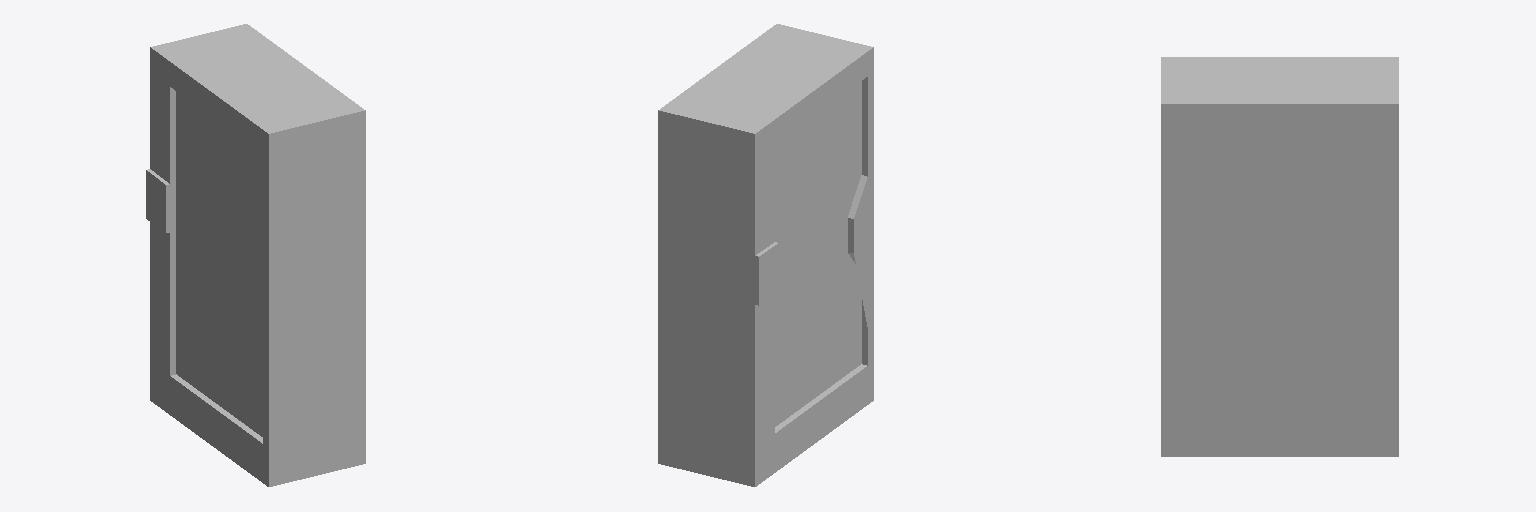
File: vendingMachine.obj
3 renders of one model, left to right at view 1: azimuth 30°, elevation 25°; view 2: azimuth 150°, elevation 25°; view 3: azimuth 270°, elevation 25°, orthographic.
Parts seen in each view (by area): view 1: Cube_Cube.001; view 2: Cube_Cube.001; view 3: Cube_Cube.001.
Part boxes in pixels (x1,y1,x2,y2): Cube_Cube.001: (146, 24, 365, 486); Cube_Cube.001: (658, 24, 873, 486); Cube_Cube.001: (1161, 57, 1398, 456).
Bounding box in the file's own units: 1.7 × 5.69 × 3.46.